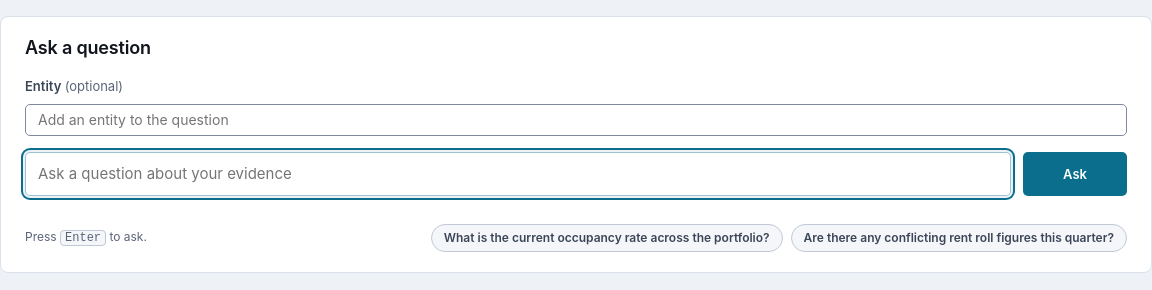
Test case: AnswerComposer › fills the input and focuses it from an example chip, never submitting
The image size is (1152, 290).
Click the button "What is the current occupancy rate across the portfolio?": click(607, 238) [431,224,783,252]
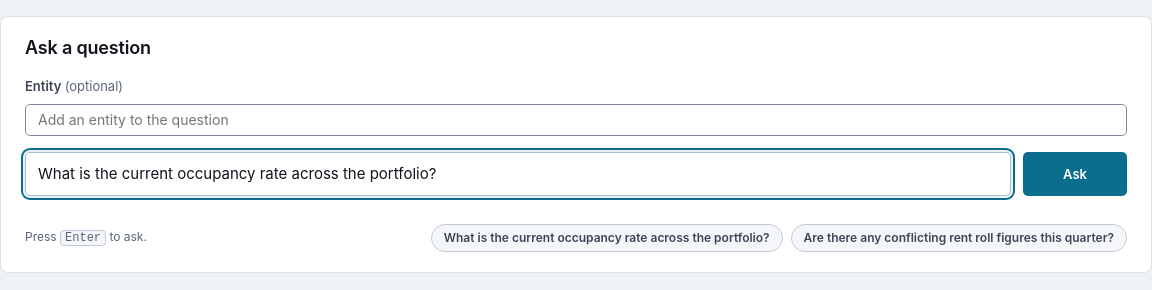
Now the field named "question" holds "What is the current occupancy rate across the portfolio?", box [25,152,1011,196]
